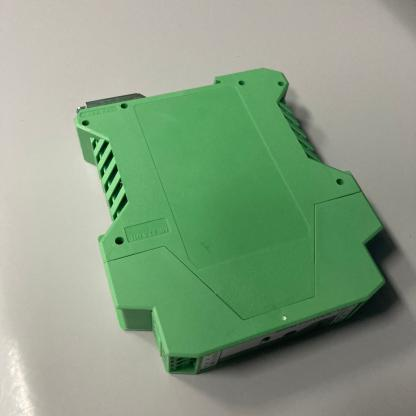SP0000011: (23, 30, 410, 406)
